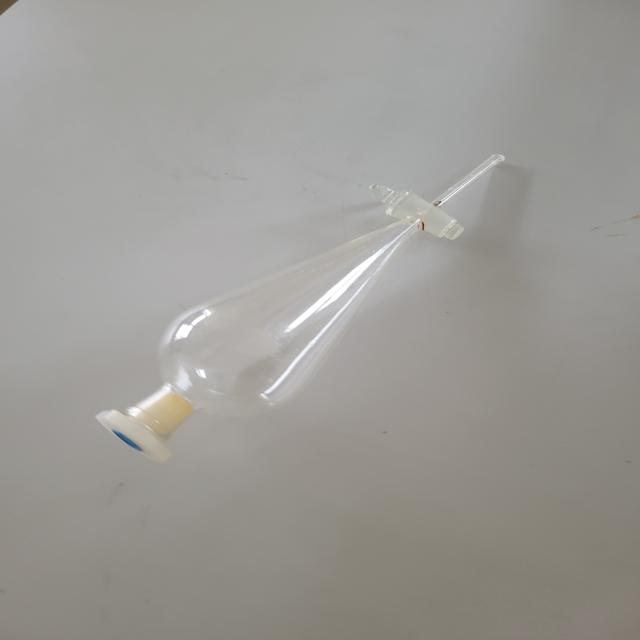Separating_Funnel: (72, 116, 533, 479)
